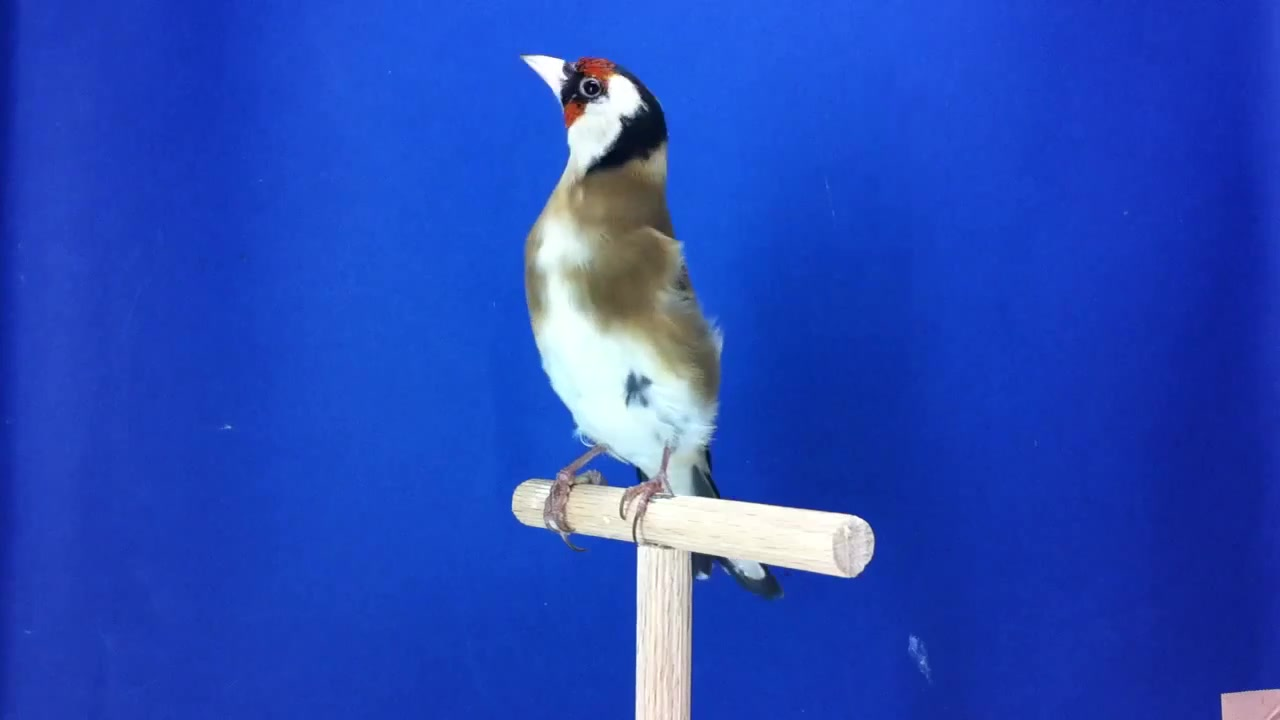bird: (519, 53, 786, 601)
